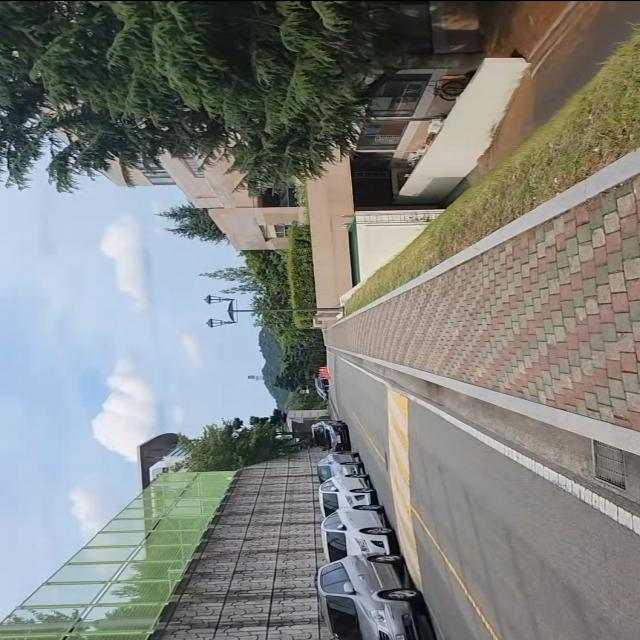obstacle: (313, 450, 446, 640)
road: (327, 347, 640, 640)
sidewalk: (319, 149, 640, 448)
